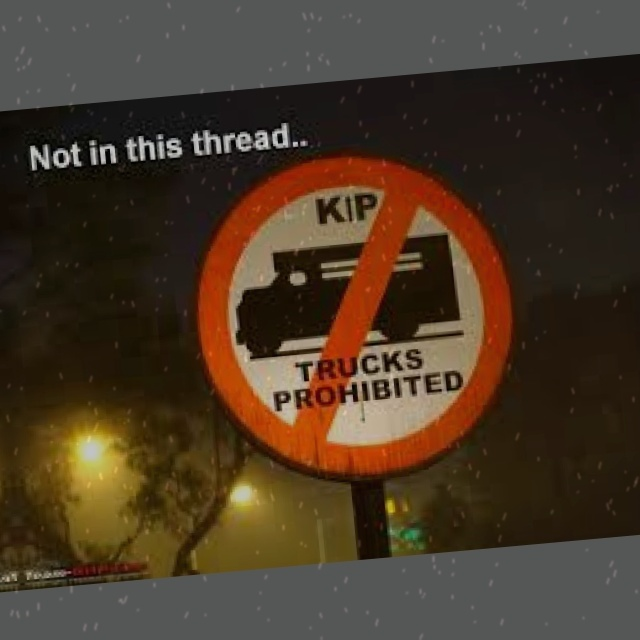Truck_Prohibited: (180, 140, 539, 496)
